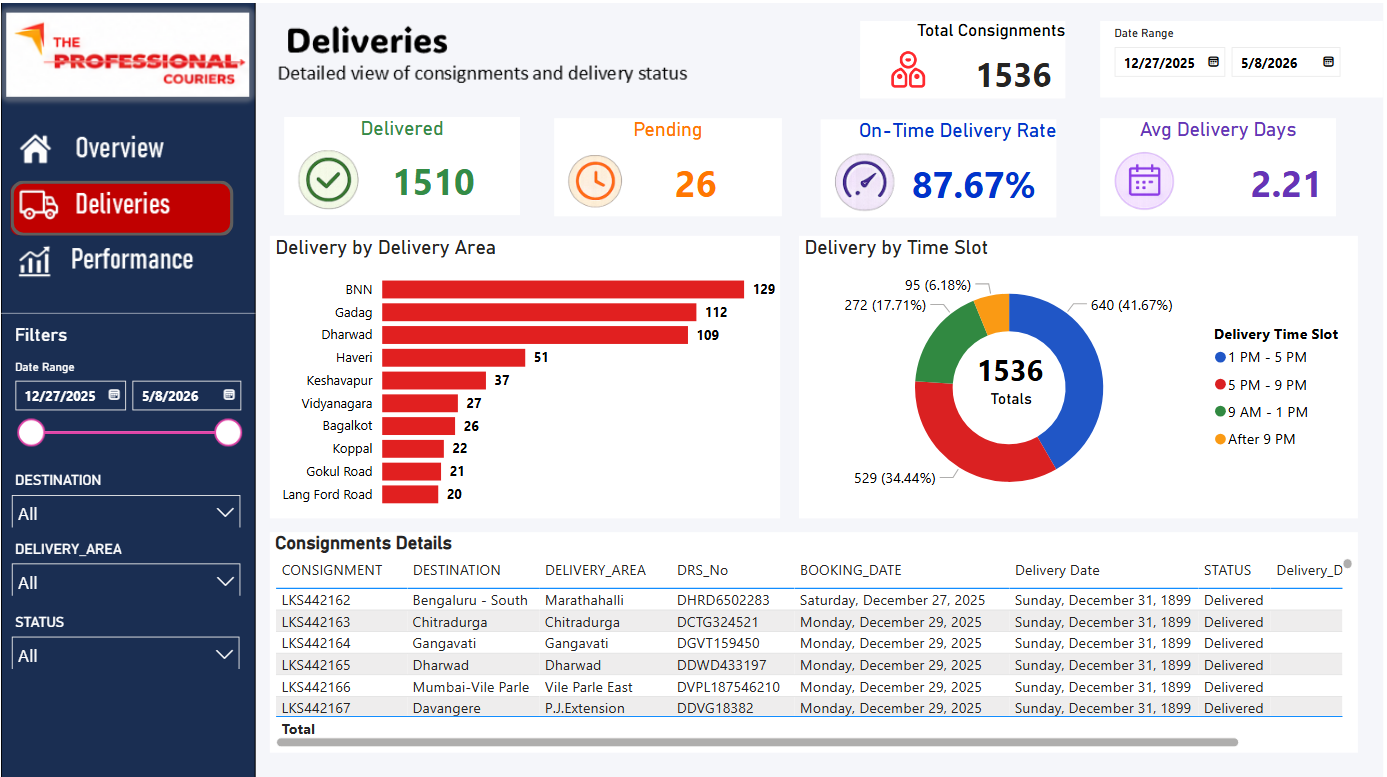

Layout of this report page (visuals, bound fields, positions):
{"tool":"powerbi","page":{"name":"DELIVERIES","canvas":[1280,720],"ordinal":1},"visuals":[{"type":"actionButton","box":[9.4,164.4,206.2,51.2],"z":0},{"type":"actionButton","box":[8.8,115,206.9,41.9],"z":1000},{"type":"actionButton","box":[8.8,223.1,206.9,41.9],"z":2000},{"type":"cardVisual","title":"Total Consignments","fields":{"Data":["Data.total Consignments"]},"box":[795.6,16.7,189.9,71.9],"z":3000},{"type":"slicer","fields":{"Values":["Data.BOOKING_DATE"]},"box":[1017.8,16.4,261.6,71.2],"z":4000},{"type":"cardVisual","title":"Delivered","fields":{"Data":["Data.total Consignments"]},"box":[261.8,105.2,218.1,91.1],"z":5000},{"type":"cardVisual","title":"Pending","fields":{"Data":["Data.total Consignments"]},"box":[512,106.5,210.4,91.1],"z":6000},{"type":"cardVisual","title":"On-Time Delivery Rate","fields":{"Data":["Data.On_Time_Delivery_Rate"]},"box":[758.4,107.8,218.1,91.1],"z":7000},{"type":"cardVisual","title":"Avg Delivery Days","fields":{"Data":["Data.average"]},"box":[1017.6,106.5,218.1,91.1],"z":8000},{"type":"clusteredBarChart","title":"Delivery by Delivery Area","fields":{"Category":["Data.DELIVERY_AREA"],"Y":["CountNonNull(Data.DELIVERY_AREA)"]},"box":[248.6,215.7,472.9,261.4],"z":9000},{"type":"donutChart","title":"Delivery by Time Slot","fields":{"Y":["CountNonNull(Data.CONSIGNMENT_No)"],"Category":["Data.Delivery Time Slot"]},"box":[738.6,215.7,517.1,261.4],"z":10000},{"type":"cardVisual","title":"Total Consignments","fields":{"Data":["Data.total Consignments"]},"box":[872.6,297.7,124.5,77],"z":11000},{"type":"textbox","box":[890.7,352,88.7,30.7],"z":12000},{"type":"tableEx","title":"Consignments Details","fields":{"Values":["Data.CONSIGNMENT_No","Data.DESTINATION","Data.DELIVERY_AREA","Data.DRS_No","Data.BOOKING_DATE","Data.Delivery Date","Data.STATUS","Data.Delivery_Days","Data.SIGNATURE"]},"box":[248.6,490,1007.1,204.3],"z":13000},{"type":"slicer","fields":{"Values":["Data.BOOKING_DATE"]},"box":[0,325,232,103],"z":14000},{"type":"textbox","box":[8,292,86,41],"z":15000},{"type":"slicer","fields":{"Values":["Data.DESTINATION"]},"box":[0,428.3,231.7,56.7],"z":16000},{"type":"slicer","fields":{"Values":["Data.DELIVERY_AREA"]},"box":[0,491.8,231.8,56.4],"z":17000},{"type":"slicer","fields":{"Values":["Data.STATUS"]},"box":[0,560,230.9,56.4],"z":18000}]}

Visuals, with their boxes on the page's 1280x720 design canvas (x1, y1, x2, y2). These are canvas units, not pixel positions in the 1387x777 screenshot, which may show the page scaled, cropped or inside an application window:
actionButton: [9, 164, 216, 216]
actionButton: [9, 115, 216, 157]
actionButton: [9, 223, 216, 265]
"Total Consignments" cardVisual: [796, 17, 986, 89]
slicer - Data.BOOKING_DATE: [1018, 16, 1279, 88]
"Delivered" cardVisual: [262, 105, 480, 196]
"Pending" cardVisual: [512, 106, 722, 198]
"On-Time Delivery Rate" cardVisual: [758, 108, 976, 199]
"Avg Delivery Days" cardVisual: [1018, 106, 1236, 198]
"Delivery by Delivery Area" clusteredBarChart: [249, 216, 722, 477]
"Delivery by Time Slot" donutChart: [739, 216, 1256, 477]
"Total Consignments" cardVisual: [873, 298, 997, 375]
textbox: [891, 352, 979, 383]
"Consignments Details" tableEx: [249, 490, 1256, 694]
slicer - Data.BOOKING_DATE: [0, 325, 232, 428]
textbox: [8, 292, 94, 333]
slicer - Data.DESTINATION: [0, 428, 232, 485]
slicer - Data.DELIVERY_AREA: [0, 492, 232, 548]
slicer - Data.STATUS: [0, 560, 231, 616]
